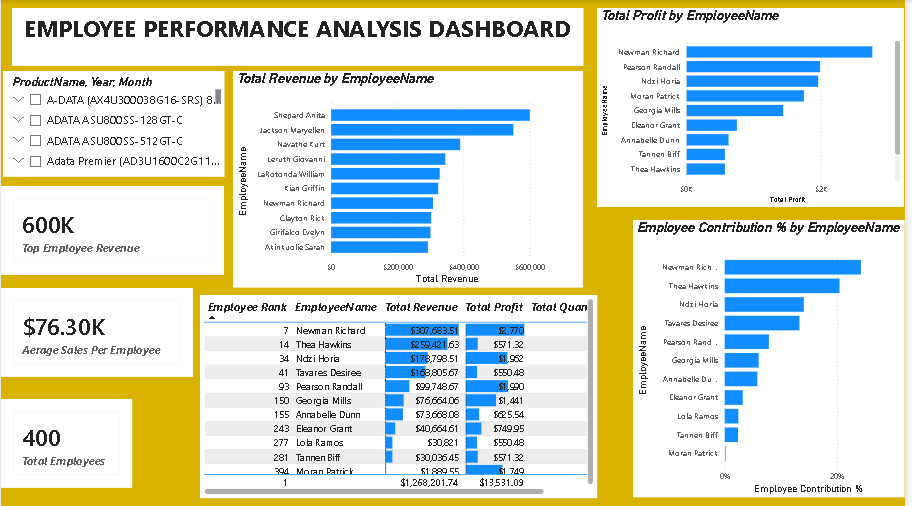

Layout of this report page (visuals, bound fields, positions):
{"tool":"powerbi","page":{"name":"Employee Performance Dashboard ","canvas":[1280,720],"ordinal":6},"visuals":[{"type":"cardVisual","fields":{"Data":["ML_Dataset_Cleaned.Total Employee"]},"box":[0,566.1,186.5,126],"z":0},{"type":"cardVisual","fields":{"Data":["ML_Dataset_Cleaned.Highest Sales Employee Revenue"]},"box":[0,263.7,315.8,126],"z":1000},{"type":"cardVisual","fields":{"Data":["ML_Dataset_Cleaned.Aerage Sales Per Employee"]},"box":[0,408.2,272.1,126.1],"z":2000},{"type":"clusteredBarChart","fields":{"Category":["ML_Dataset_Cleaned.EmployeeName"],"Y":["ML_Dataset_Cleaned.Total Revenue"]},"box":[328.8,100.6,495.5,307.4],"z":3000},{"type":"clusteredBarChart","fields":{"Category":["ML_Dataset_Cleaned.EmployeeName"],"Y":["ML_Dataset_Cleaned.Total Profit"]},"box":[844.9,11.8,435.1,282.2],"z":4000},{"type":"tableEx","fields":{"Values":["ML_Dataset_Cleaned.Employee Rank","ML_Dataset_Cleaned.EmployeeName","ML_Dataset_Cleaned.Total Revenue","ML_Dataset_Cleaned.Total Profit","ML_Dataset_Cleaned.Total Quantity Sold"]},"box":[282,418.1,562.7,287.7],"z":5000},{"type":"clusteredBarChart","fields":{"Category":["ML_Dataset_Cleaned.EmployeeName"],"Y":["ML_Dataset_Cleaned.Employee Contribution %"]},"box":[895.3,312.4,384.7,393.1],"z":6000},{"type":"textbox","box":[15.1,11.8,809.7,82.3],"z":7000},{"type":"slicer","fields":{"Values":["ML_Dataset_Cleaned.ProductName","ML_Dataset_Cleaned.OrderDate.Variation.Date Hierarchy.Year","ML_Dataset_Cleaned.OrderDate.Variation.Date Hierarchy.Month"]},"box":[2.8,100.6,314,150],"z":8000}]}

Visuals, with their boxes in screenshot pixels (x1, y1, x2, y2), scaled from the page's 1280x720 canvas onto the 912x506 screenshot:
cardVisual - ML_Dataset_Cleaned.Total Employee: x1=0 y1=398 x2=133 y2=486
cardVisual - ML_Dataset_Cleaned.Highest Sales Employee Revenue: x1=0 y1=185 x2=225 y2=274
cardVisual - ML_Dataset_Cleaned.Aerage Sales Per Employee: x1=0 y1=287 x2=194 y2=375
clusteredBarChart - ML_Dataset_Cleaned.EmployeeName x ML_Dataset_Cleaned.Total Revenue: x1=234 y1=71 x2=587 y2=287
clusteredBarChart - ML_Dataset_Cleaned.EmployeeName x ML_Dataset_Cleaned.Total Profit: x1=602 y1=8 x2=911 y2=207
tableEx - ML_Dataset_Cleaned.Employee Rank x ML_Dataset_Cleaned.EmployeeName: x1=201 y1=294 x2=602 y2=496
clusteredBarChart - ML_Dataset_Cleaned.EmployeeName x ML_Dataset_Cleaned.Employee Contribution %: x1=638 y1=220 x2=911 y2=496
textbox: x1=11 y1=8 x2=588 y2=66
slicer - ML_Dataset_Cleaned.ProductName x ML_Dataset_Cleaned.OrderDate.Variation.Date Hierarchy.Year: x1=2 y1=71 x2=226 y2=176
